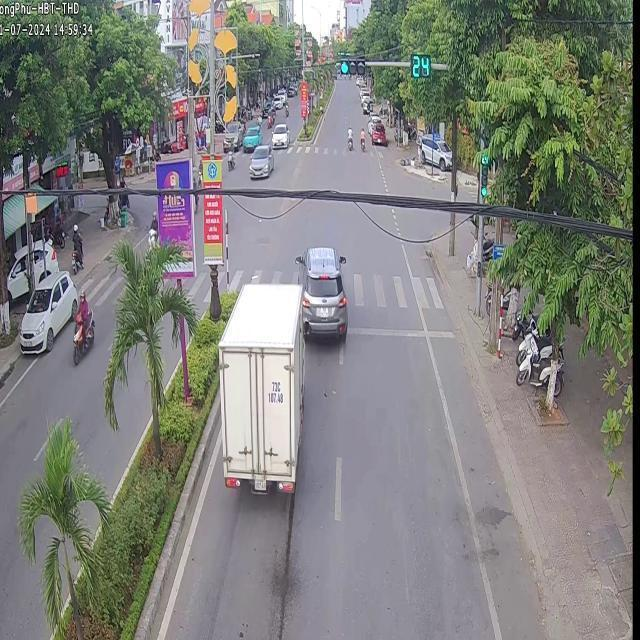car: (217, 282, 303, 491), (293, 245, 346, 340), (18, 269, 76, 351), (247, 142, 272, 178)
green_light: (339, 59, 365, 74), (410, 54, 429, 74), (479, 148, 486, 201)
motobike: (70, 309, 93, 362)
stop_line: (347, 325, 422, 335)
